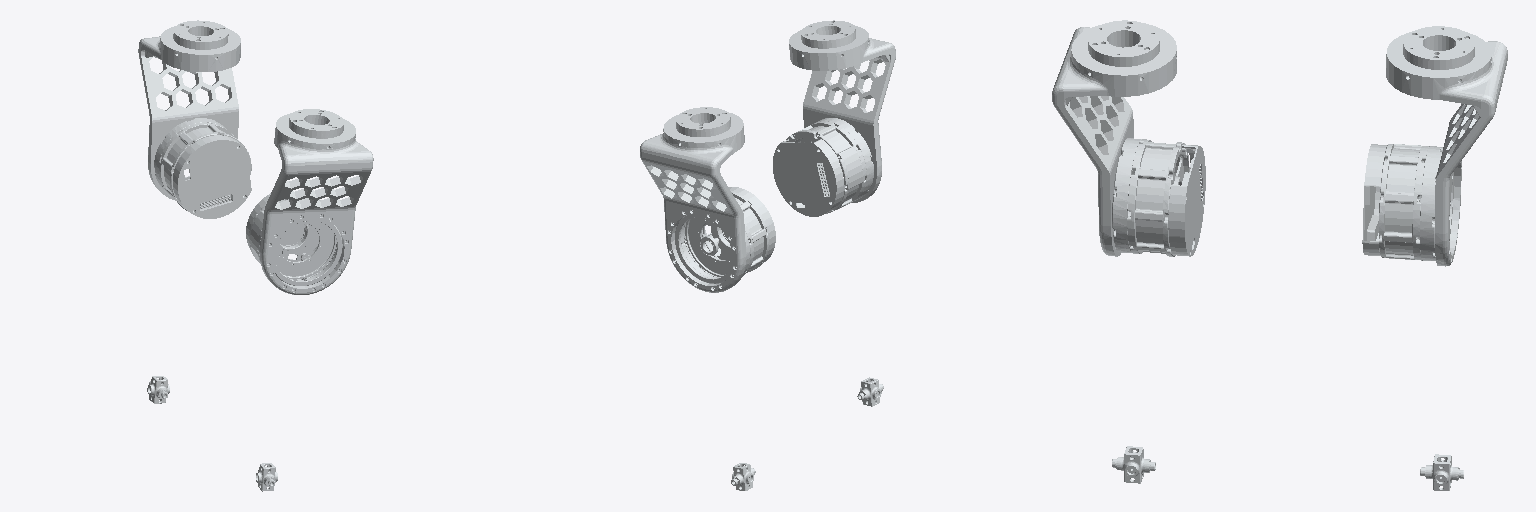
The robot description file, URDF, robot "fftai_minigr1.SLDASM":
<?xml version="1.0" encoding="utf-8"?>
<!-- This URDF was automatically created by SolidWorks to URDF Exporter! Originally created by [author] ([email redacted]) 
     Commit Version: 1.6.0-4-g7f85cfe  Build Version: 1.6.7995.38578
     For more information, please see http://wiki.ros.org/sw_urdf_exporter -->
<robot
  name="fftai_minigr1.SLDASM">
  <link
    name="base_link">
    <inertial>
      <origin
        xyz="-5.4024E-06 0.00054898 -0.042272"
        rpy="0 0 0" />
      <mass
        value="1.2205" />
      <inertia
        ixx="0.0043789"
        ixy="-2.4463E-07"
        ixz="4.0801E-07"
        iyy="0.002838"
        iyz="-2.0869E-05"
        izz="0.0045167" />
    </inertial>
    <visual>
      <origin
        xyz="0 0 0"
        rpy="0 0 0" />
      <geometry>
        <mesh
          filename="package://fftai_minigr1.SLDASM/meshes/base_link.STL" />
      </geometry>
      <material
        name="">
        <color
          rgba="0.75294 0.75294 0.75294 1" />
      </material>
    </visual>
    <collision>
      <origin
        xyz="0 0 0"
        rpy="0 0 0" />
      <geometry>
        <mesh
          filename="package://fftai_minigr1.SLDASM/meshes/base_link.STL" />
      </geometry>
    </collision>
  </link>
  <link
    name="rightlink1">
    <inertial>
      <origin
        xyz="0.0594420628881002 0.034533401712012 -0.00630428008375954"
        rpy="0 0 0" />
      <mass
        value="0.509840592418631" />
      <inertia
        ixx="0.000669643310892188"
        ixy="-0.000129685618842681"
        ixz="1.09639828066877E-05"
        iyy="0.00100108461211825"
        iyz="1.33581646025291E-05"
        izz="0.000779599614241243" />
    </inertial>
    <visual>
      <origin
        xyz="0 0 0"
        rpy="0 0 0" />
      <geometry>
        <mesh
          filename="package://fftai_minigr1.SLDASM/meshes/rightlink1.STL" />
      </geometry>
      <material
        name="">
        <color
          rgba="0.792156862745098 0.819607843137255 0.933333333333333 1" />
      </material>
    </visual>
    <collision>
      <origin
        xyz="0 0 0"
        rpy="0 0 0" />
      <geometry>
        <mesh
          filename="package://fftai_minigr1.SLDASM/meshes/rightlink1.STL" />
      </geometry>
    </collision>
  </link>
  <joint
    name="rightjoint1"
    type="revolute">
    <origin
      xyz="-0.081153 -0.141 -0.071463"
      rpy="0 0 0" />
    <parent
      link="base_link" />
    <child
      link="rightlink1" />
    <axis
      xyz="0 -1 0" />
    <limit
      lower="-1"
      upper="1"
      effort="96"
      velocity="10.47" />
  </joint>
  <link
    name="rightlink2">
    <inertial>
      <origin
        xyz="0.00150638112135018 -0.0545199451983754 0.0925094666423404"
        rpy="0 0 0" />
      <mass
        value="0.959639677882016" />
      <inertia
        ixx="0.00345409150874404"
        ixy="4.88034349080604E-06"
        ixz="-3.76658218620116E-05"
        iyy="0.00350890183497374"
        iyz="0.000277153174639458"
        izz="0.00119661283058245" />
    </inertial>
    <visual>
      <origin
        xyz="0 0 0"
        rpy="0 0 0" />
      <geometry>
        <mesh
          filename="package://fftai_minigr1.SLDASM/meshes/rightlink2.STL" />
      </geometry>
      <material
        name="">
        <color
          rgba="0.898039215686275 0.917647058823529 0.929411764705882 1" />
      </material>
    </visual>
    <collision>
      <origin
        xyz="0 0 0"
        rpy="0 0 0" />
      <geometry>
        <mesh
          filename="package://fftai_minigr1.SLDASM/meshes/rightlink2.STL" />
      </geometry>
    </collision>
  </link>
  <joint
    name="rightjoint2"
    type="revolute">
    <origin
      xyz="0.061457 0.0026992 -0.1657"
      rpy="0 0 -1.5708" />
    <parent
      link="rightlink1" />
    <child
      link="rightlink2" />
    <axis
      xyz="0 -0.99481 0.10176" />
    <limit
      lower="-1"
      upper="1"
      effort="51"
      velocity="6.17" />
  </joint>
  <link
    name="rightlink3">
    <inertial>
      <origin
        xyz="-0.0169788668954402 0.0131504745747969 0.092638307463068"
        rpy="0 0 0" />
      <mass
        value="0.814993443206341" />
      <inertia
        ixx="0.00259546516752718"
        ixy="-7.63648120351649E-05"
        ixz="-3.96055575713375E-05"
        iyy="0.00223717232859865"
        iyz="-9.71194944207922E-05"
        izz="0.00121662750784586" />
    </inertial>
    <visual>
      <origin
        xyz="0 0 0"
        rpy="0 0 0" />
      <geometry>
        <mesh
          filename="package://fftai_minigr1.SLDASM/meshes/rightlink3.STL" />
      </geometry>
      <material
        name="">
        <color
          rgba="0.898039215686275 0.917647058823529 0.929411764705882 1" />
      </material>
    </visual>
    <collision>
      <origin
        xyz="0 0 0"
        rpy="0 0 0" />
      <geometry>
        <mesh
          filename="package://fftai_minigr1.SLDASM/meshes/rightlink3.STL" />
      </geometry>
    </collision>
  </link>
  <joint
    name="rightjoint3"
    type="revolute">
    <origin
      xyz="0.024094 -0.019567 -0.14117"
      rpy="0 0 0" />
    <parent
      link="rightlink2" />
    <child
      link="rightlink3" />
    <axis
      xyz="-0.017018 -0.10175 -0.99466" />
    <limit
      lower="-1"
      upper="1"
      effort="51"
      velocity="6.17" />
  </joint>
  <link
    name="rightlink4">
    <inertial>
      <origin
        xyz="-0.02107 -0.018266 -0.118"
        rpy="0 0 0" />
      <mass
        value="1.192" />
      <inertia
        ixx="0.0088929"
        ixy="-0.00023311"
        ixz="-0.00094746"
        iyy="0.0082733"
        iyz="-0.00081089"
        izz="0.0016722" />
    </inertial>
    <visual>
      <origin
        xyz="0 0 0"
        rpy="0 0 0" />
      <geometry>
        <mesh
          filename="package://fftai_minigr1.SLDASM/meshes/rightlink4.STL" />
      </geometry>
      <material
        name="">
        <color
          rgba="0.89804 0.91765 0.92941 1" />
      </material>
    </visual>
    <collision>
      <origin
        xyz="0 0 0"
        rpy="0 0 0" />
      <geometry>
        <mesh
          filename="package://fftai_minigr1.SLDASM/meshes/rightlink4.STL" />
      </geometry>
    </collision>
  </link>
  <joint
    name="rightjoint4"
    type="revolute">
    <origin
      xyz="0 0 0"
      rpy="0 0 0" />
    <parent
      link="rightlink3" />
    <child
      link="rightlink4" />
    <axis
      xyz="0.98186 -0.18959 0.0025948" />
    <limit
      lower="-1"
      upper="1"
      effort="96"
      velocity="10.47" />
  </joint>
  <link
    name="rightlink5">
    <inertial>
      <origin
        xyz="-0.00141875911499316 -0.00733911012341296 0.000612186381362401"
        rpy="0 0 0" />
      <mass
        value="0.0173110583311115" />
      <inertia
        ixx="1.29924754459473E-06"
        ixy="9.9481824730128E-08"
        ixz="-5.06675119593671E-09"
        iyy="1.79491581629449E-06"
        iyz="-2.28054871242313E-08"
        izz="1.53090432178549E-06" />
    </inertial>
    <visual>
      <origin
        xyz="0 0 0"
        rpy="0 0 0" />
      <geometry>
        <mesh
          filename="package://fftai_minigr1.SLDASM/meshes/rightlink5.STL" />
      </geometry>
      <material
        name="">
        <color
          rgba="0.898039215686275 0.917647058823529 0.929411764705882 1" />
      </material>
    </visual>
    <collision>
      <origin
        xyz="0 0 0"
        rpy="0 0 0" />
      <geometry>
        <mesh
          filename="package://fftai_minigr1.SLDASM/meshes/rightlink5.STL" />
      </geometry>
    </collision>
  </link>
  <joint
    name="rightjoint5"
    type="revolute">
    <origin
      xyz="-0.031112 -0.033177 -0.28606"
      rpy="0 0 0" />
    <parent
      link="rightlink4" />
    <child
      link="rightlink5" />
    <axis
      xyz="-0.18917 -0.97855 0.081625" />
    <limit
      lower="-1"
      upper="1"
      effort="30"
      velocity="13" />
  </joint>
  <link
    name="rightlink6">
    <inertial>
      <origin
        xyz="0.00271838660921525 0.0121894183170719 -0.0328415480999896"
        rpy="0 0 0" />
      <mass
        value="0.435198681355299" />
      <inertia
        ixx="0.00141144798650743"
        ixy="-0.000223453197294276"
        ixz="2.27504850596137E-05"
        iyy="0.000290740612952736"
        iyz="0.000124403796711155"
        izz="0.00162797670007103" />
    </inertial>
    <visual>
      <origin
        xyz="0 0 0"
        rpy="0 0 0" />
      <geometry>
        <mesh
          filename="package://fftai_minigr1.SLDASM/meshes/rightlink6.STL" />
      </geometry>
      <material
        name="">
        <color
          rgba="0.898039215686275 0.917647058823529 0.929411764705882 1" />
      </material>
    </visual>
    <collision>
      <origin
        xyz="0 0 0"
        rpy="0 0 0" />
      <geometry>
        <mesh
          filename="package://fftai_minigr1.SLDASM/meshes/rightlink6.STL" />
      </geometry>
    </collision>
  </link>
  <joint
    name="rightjoint6"
    type="revolute">
    <origin
      xyz="0 0 0"
      rpy="0 0 0" />
    <parent
      link="rightlink5" />
    <child
      link="rightlink6" />
    <axis
      xyz="-0.98186 0.18959 -0.0025948" />
    <limit
      lower="-1"
      upper="1"
      effort="30"
      velocity="13" />
  </joint>
  <link
    name="leftlink1">
    <inertial>
      <origin
        xyz="-0.017592 -0.021793 0.0011878"
        rpy="0 0 0" />
      <mass
        value="0.50984" />
      <inertia
        ixx="0.0010013"
        ixy="-0.00013036"
        ixz="7.5191E-06"
        iyy="0.00066894"
        iyz="6.5004E-06"
        izz="0.00078008" />
    </inertial>
    <visual>
      <origin
        xyz="0 0 0"
        rpy="0 0 0" />
      <geometry>
        <mesh
          filename="package://fftai_minigr1.SLDASM/meshes/leftlink1.STL" />
      </geometry>
      <material
        name="">
        <color
          rgba="0.79216 0.81961 0.93333 1" />
      </material>
    </visual>
    <collision>
      <origin
        xyz="0 0 0"
        rpy="0 0 0" />
      <geometry>
        <mesh
          filename="package://fftai_minigr1.SLDASM/meshes/leftlink1.STL" />
      </geometry>
    </collision>
  </link>
  <joint
    name="leftjoint1"
    type="revolute">
    <origin
      xyz="0 0.091 -0.08"
      rpy="0 0 -1.5708" />
    <parent
      link="base_link" />
    <child
      link="leftlink1" />
    <axis
      xyz="-1 0 0" />
    <limit
      lower="-1"
      upper="1"
      effort="96"
      velocity="10.47" />
  </joint>
  <link
    name="leftlink2">
    <inertial>
      <origin
        xyz="0.000784166400198932 0.0103930458656625 -0.0727783392523898"
        rpy="0 0 0" />
      <mass
        value="0.959637760358257" />
      <inertia
        ixx="0.00345586101834131"
        ixy="-4.17011436443649E-06"
        ixz="2.39909756772755E-05"
        iyy="0.00347578197828339"
        iyz="0.000386165221019164"
        izz="0.00122795828629075" />
    </inertial>
    <visual>
      <origin
        xyz="0 0 0"
        rpy="0 0 0" />
      <geometry>
        <mesh
          filename="package://fftai_minigr1.SLDASM/meshes/leftlink2.STL" />
      </geometry>
      <material
        name="">
        <color
          rgba="0.898039215686275 0.917647058823529 0.929411764705882 1" />
      </material>
    </visual>
    <collision>
      <origin
        xyz="0 0 0"
        rpy="0 0 0" />
      <geometry>
        <mesh
          filename="package://fftai_minigr1.SLDASM/meshes/leftlink2.STL" />
      </geometry>
    </collision>
  </link>
  <joint
    name="leftjoint2"
    type="revolute">
    <origin
      xyz="-0.052 -0.081493 0.004184"
      rpy="0 0 0" />
    <parent
      link="leftlink1" />
    <child
      link="leftlink2" />
    <axis
      xyz="0 -0.99853 0.054143" />
    <limit
      lower="-1"
      upper="1"
      effort="51"
      velocity="6.17" />
  </joint>
  <link
    name="leftlink3">
    <inertial>
      <origin
        xyz="-0.0075101 -0.0019949 -0.049043"
        rpy="0 0 0" />
      <mass
        value="0.81627" />
      <inertia
        ixx="0.0026051"
        ixy="-4.1712E-05"
        ixz="4.1728E-05"
        iyy="0.0022377"
        iyz="-6.0576E-05"
        izz="0.0012067" />
    </inertial>
    <visual>
      <origin
        xyz="0 0 0"
        rpy="0 0 0" />
      <geometry>
        <mesh
          filename="package://fftai_minigr1.SLDASM/meshes/leftlink3.STL" />
      </geometry>
      <material
        name="">
        <color
          rgba="0.89804 0.91765 0.92941 1" />
      </material>
    </visual>
    <collision>
      <origin
        xyz="0 0 0"
        rpy="0 0 0" />
      <geometry>
        <mesh
          filename="package://fftai_minigr1.SLDASM/meshes/leftlink3.STL" />
      </geometry>
    </collision>
  </link>
  <joint
    name="leftjoint3"
    type="revolute">
    <origin
      xyz="0.0017265 0.069299 -0.16259"
      rpy="0 0 0" />
    <parent
      link="leftlink2" />
    <child
      link="leftlink3" />
    <axis
      xyz="0.010886 -0.05414 -0.99847" />
    <limit
      lower="-1"
      upper="1"
      effort="51"
      velocity="6.17" />
  </joint>
  <link
    name="leftlink4">
    <inertial>
      <origin
        xyz="0.016924 -0.0243 -0.11757"
        rpy="0 0 0" />
      <mass
        value="1.192" />
      <inertia
        ixx="0.008942"
        ixy="3.9722E-05"
        ixz="0.00079997"
        iyy="0.0081845"
        iyz="-0.0010879"
        izz="0.0017109" />
    </inertial>
    <visual>
      <origin
        xyz="0 0 0"
        rpy="0 0 0" />
      <geometry>
        <mesh
          filename="package://fftai_minigr1.SLDASM/meshes/leftlink4.STL" />
      </geometry>
      <material
        name="">
        <color
          rgba="0.89804 0.91765 0.92941 1" />
      </material>
    </visual>
    <collision>
      <origin
        xyz="0 0 0"
        rpy="0 0 0" />
      <geometry>
        <mesh
          filename="package://fftai_minigr1.SLDASM/meshes/leftlink4.STL" />
      </geometry>
    </collision>
  </link>
  <joint
    name="leftjoint4"
    type="revolute">
    <origin
      xyz="-0.025283 -0.0046859 -0.14224"
      rpy="0 0 0" />
    <parent
      link="leftlink3" />
    <child
      link="leftlink4" />
    <axis
      xyz="-0.99366 0.11119 -0.016862" />
    <limit
      lower="-1"
      upper="1"
      effort="96"
      velocity="10.47" />
  </joint>
  <link
    name="leftlink5">
    <inertial>
      <origin
        xyz="-0.000843338698625379 -0.00738330684593827 0.00101279161661827"
        rpy="0 0 0" />
      <mass
        value="0.0173110583311115" />
      <inertia
        ixx="1.28680322959468E-06"
        ixy="5.92825626065024E-08"
        ixz="-8.5305074008254E-09"
        iyy="1.80410712063465E-06"
        iyz="-3.76937980199382E-08"
        izz="1.53415733244538E-06" />
    </inertial>
    <visual>
      <origin
        xyz="0 0 0"
        rpy="0 0 0" />
      <geometry>
        <mesh
          filename="package://fftai_minigr1.SLDASM/meshes/leftlink5.STL" />
      </geometry>
      <material
        name="">
        <color
          rgba="0.898039215686275 0.917647058823529 0.929411764705882 1" />
      </material>
    </visual>
    <collision>
      <origin
        xyz="0 0 0"
        rpy="0 0 0" />
      <geometry>
        <mesh
          filename="package://fftai_minigr1.SLDASM/meshes/leftlink5.STL" />
      </geometry>
    </collision>
  </link>
  <joint
    name="leftjoint5"
    type="revolute">
    <origin
      xyz="0.023273 -0.042222 -0.28583"
      rpy="0 0 0" />
    <parent
      link="leftlink4" />
    <child
      link="leftlink5" />
    <axis
      xyz="0.99366 -0.11119 0.016862" />
    <limit
      lower="-1"
      upper="1"
      effort="30"
      velocity="13" />
  </joint>
  <link
    name="leftlink6">
    <inertial>
      <origin
        xyz="0.00227470458831627 0.0169660390027294 -0.0369463505052474"
        rpy="0 0 0" />
      <mass
        value="0.624087512177386" />
      <inertia
        ixx="0.00222489042718702"
        ixy="-0.000212443048662945"
        ixz="3.22972322548574E-05"
        iyy="0.000415714524625207"
        iyz="0.000313740765751974"
        izz="0.00248278708474733" />
    </inertial>
    <visual>
      <origin
        xyz="0 0 0"
        rpy="0 0 0" />
      <geometry>
        <mesh
          filename="package://fftai_minigr1.SLDASM/meshes/leftlink6.STL" />
      </geometry>
      <material
        name="">
        <color
          rgba="0.898039215686275 0.917647058823529 0.929411764705882 1" />
      </material>
    </visual>
    <collision>
      <origin
        xyz="0 0 0"
        rpy="0 0 0" />
      <geometry>
        <mesh
          filename="package://fftai_minigr1.SLDASM/meshes/leftlink6.STL" />
      </geometry>
    </collision>
  </link>
  <joint
    name="leftjoint6"
    type="revolute">
    <origin
      xyz="0 0 0"
      rpy="0 0 0" />
    <parent
      link="leftlink5" />
    <child
      link="leftlink6" />
    <axis
      xyz="0.11245 0.98444 -0.13504" />
    <limit
      lower="-1"
      upper="1"
      effort="30"
      velocity="13" />
  </joint>
</robot>

--- Render facts (derived) ---
3 views of the same robot in one strip: view 1: azimuth 30°, elevation 25°; view 2: azimuth 150°, elevation 25°; view 3: azimuth 270°, elevation 25° (orthographic).
Model fftai_minigr1.SLDASM with 13 links and 12 joints (12 revolute), rooted at base_link, posed all joints at 0.
Visible links, largest first — view 1: rightlink3, leftlink3; view 2: rightlink3, leftlink3, rightlink5, leftlink5; view 3: rightlink3, leftlink3, rightlink5, leftlink5.
Boxes of the visible links, x1,y1,x2,y2 form: rightlink3: (246, 109, 373, 294); leftlink3: (138, 20, 251, 218); rightlink3: (773, 20, 895, 216); leftlink3: (640, 107, 775, 292); rightlink5: (857, 377, 883, 406); leftlink5: (731, 463, 755, 490); rightlink3: (1052, 20, 1205, 256); leftlink3: (1362, 26, 1507, 266); rightlink5: (1112, 446, 1155, 483); leftlink5: (1420, 454, 1463, 490).
Bounding box of the posed robot: 0.1401 × 0.4049 × 0.467 m (x, y, z).
4 mesh visuals loaded from 13 distinct referenced files (4 binary STL); not drawn: 9 (reference not matched to a file when rendering).